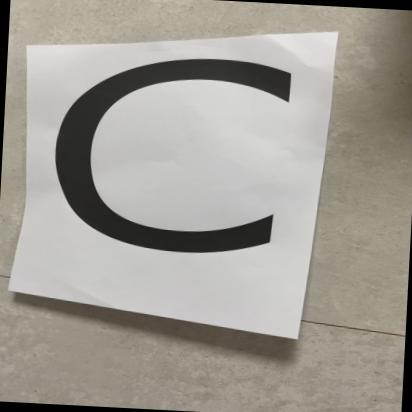seat: (11, 36, 312, 330)
